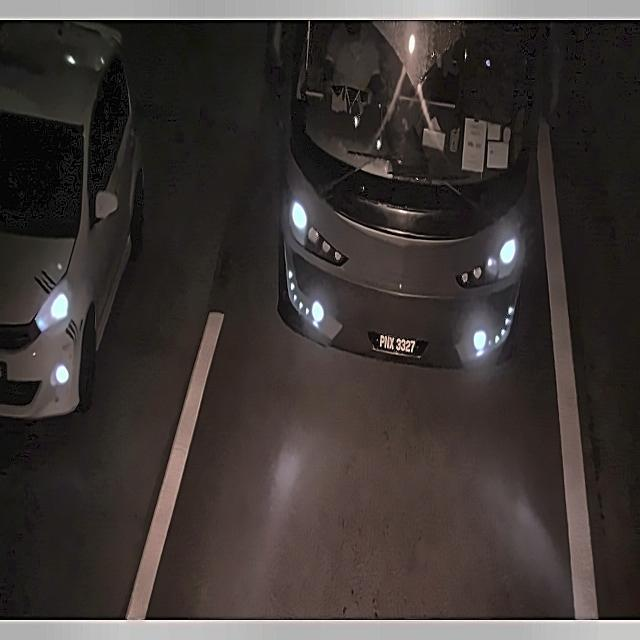car: (368, 324, 430, 363)
